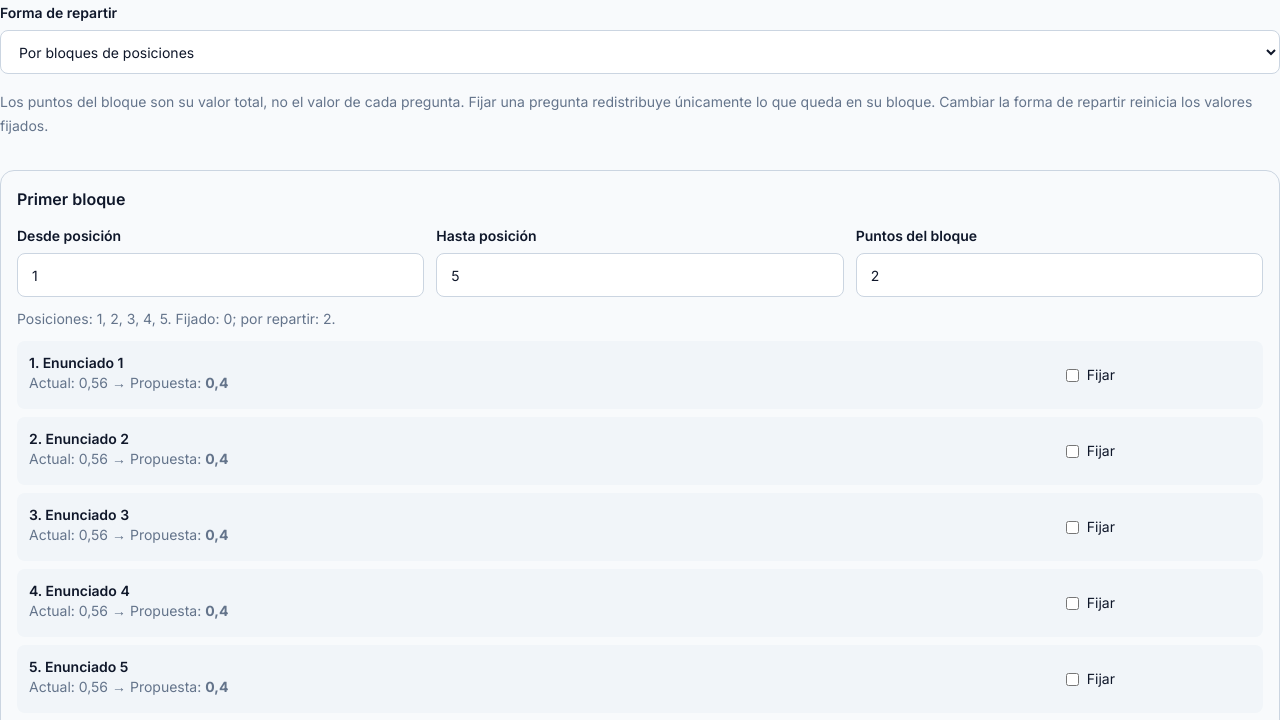
Test case: 137 agrupa por tipo y conserva los presupuestos colectivos al editarlos
Select "Por tipo de pregunta" in the dropdown labelled "Forma de repartir" at (640, 52), box [0,30,1279,74]
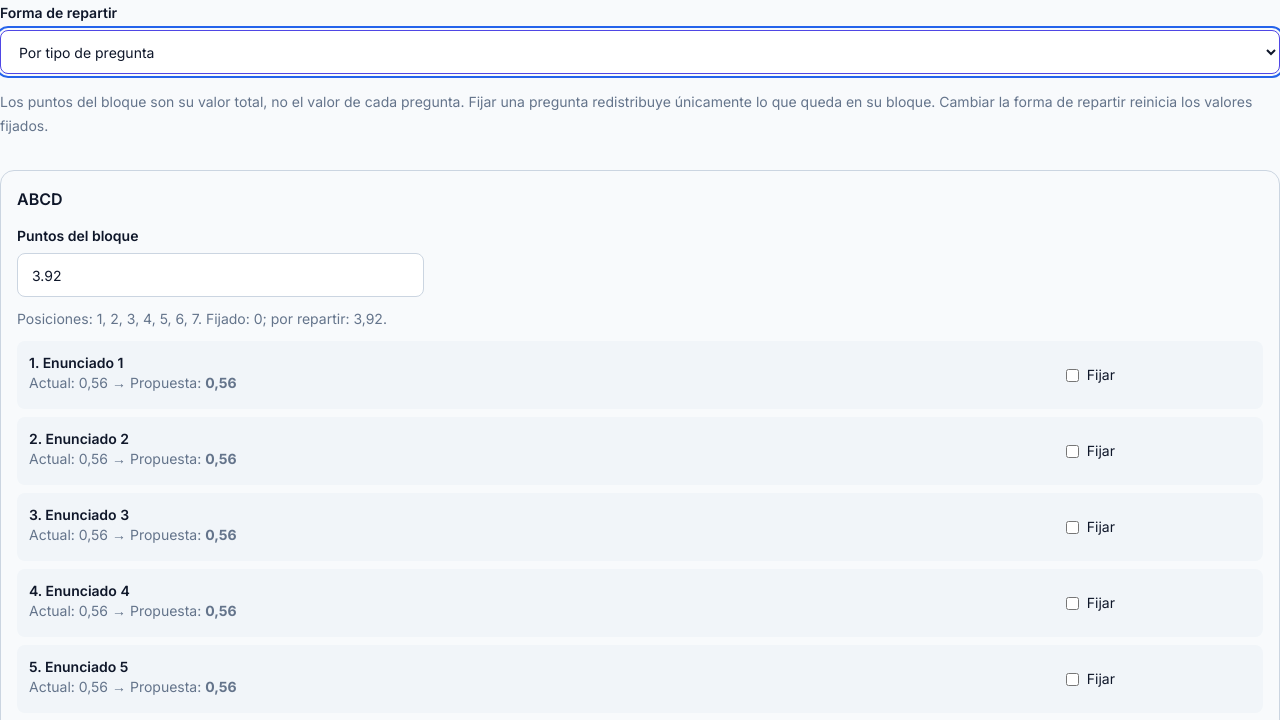
Replace the text in the field labelled "Puntos del bloque" with "2,5" at (221, 275), box [17,253,424,297]
(page scrolled)
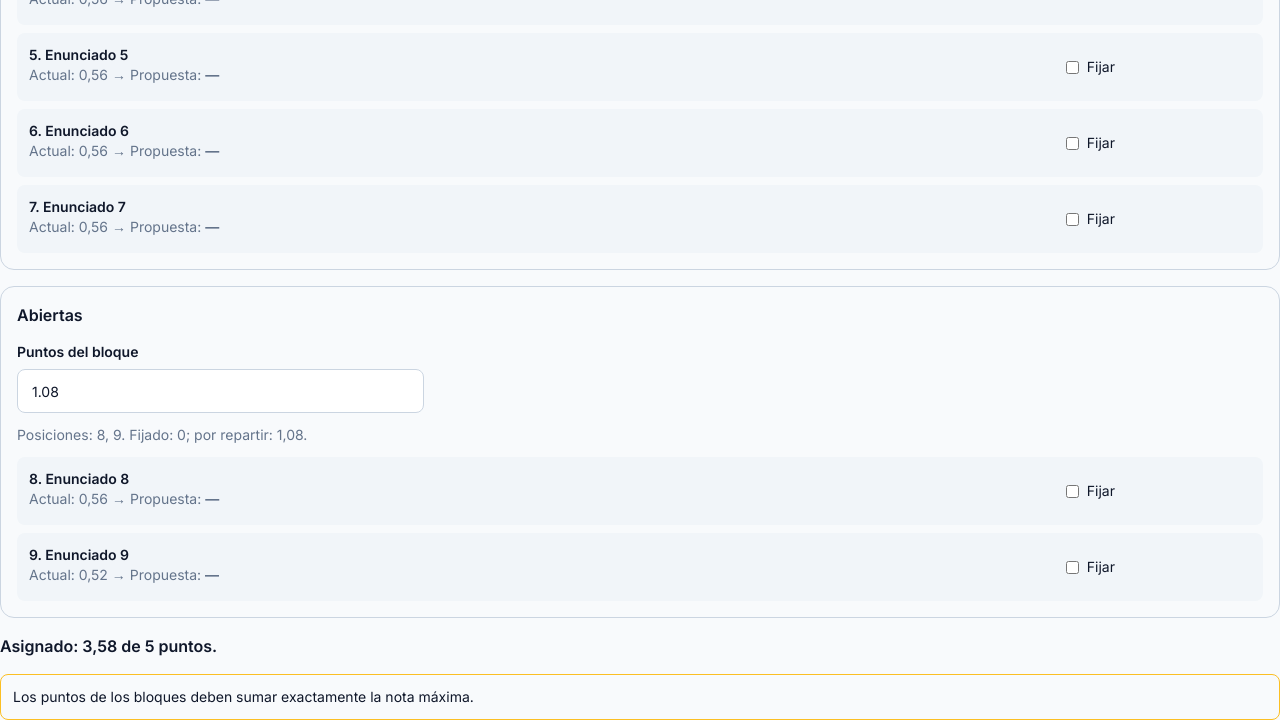
Replace the text in the field labelled "Puntos del bloque" with "2,5" at (221, 391), box [17,369,424,413]
(page scrolled)
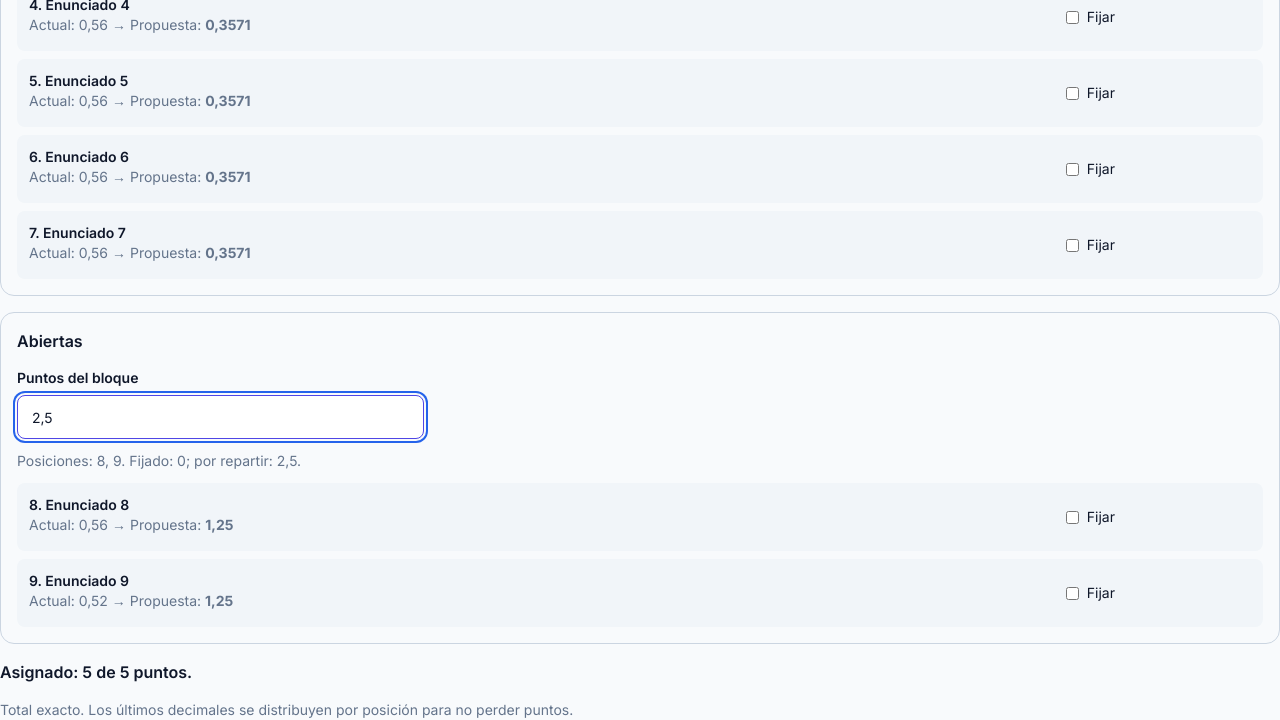
Result: the text with test id "proposal-p8" reads "1,25" at [205,516,233,533]
